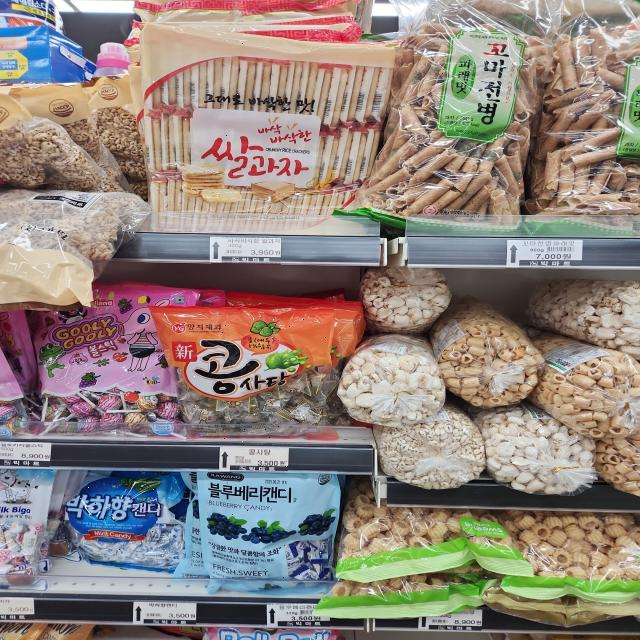product: (133, 17, 380, 246), (366, 0, 532, 248), (161, 309, 344, 444), (32, 290, 190, 435), (199, 464, 333, 589), (66, 472, 179, 563)
